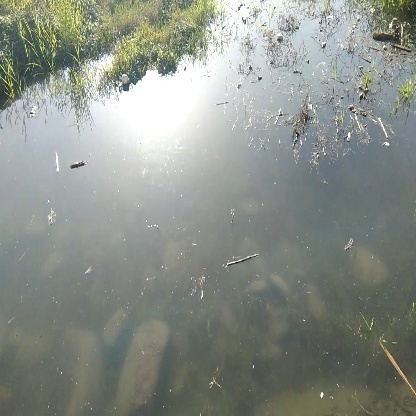grass: (105, 13, 187, 70)
